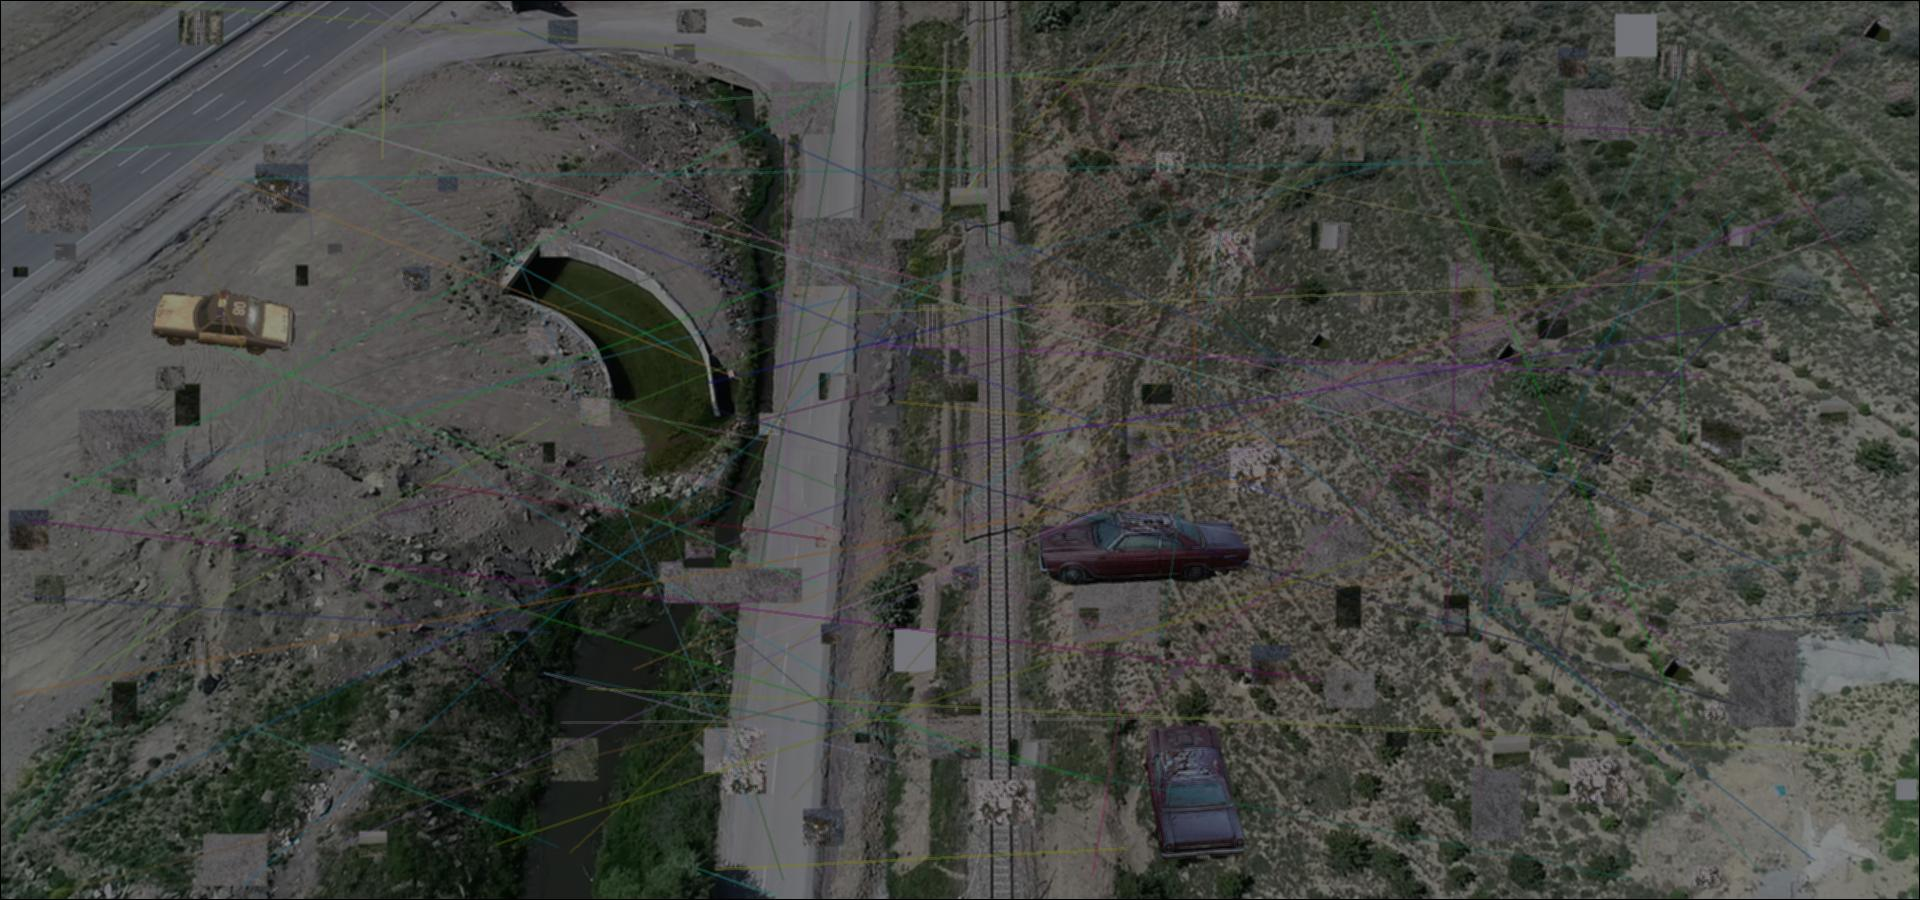arac: (1033, 513, 1254, 588), (1138, 724, 1251, 866), (147, 283, 298, 365), (1043, 507, 1138, 556)
